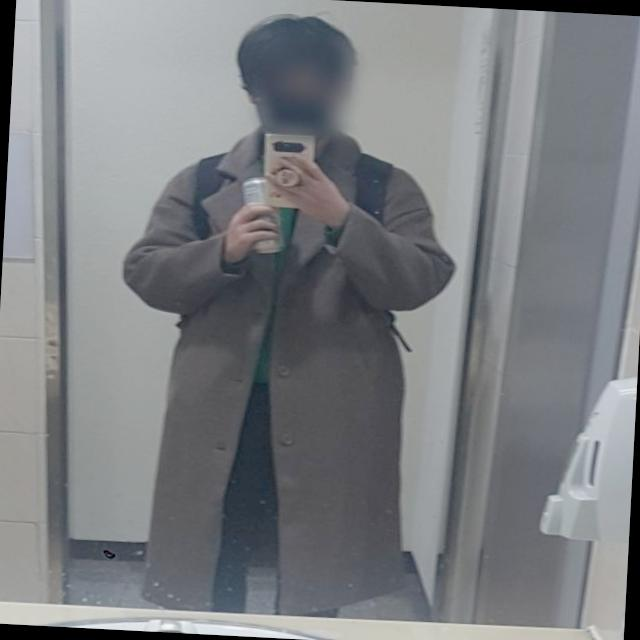coat: (107, 120, 466, 620)
